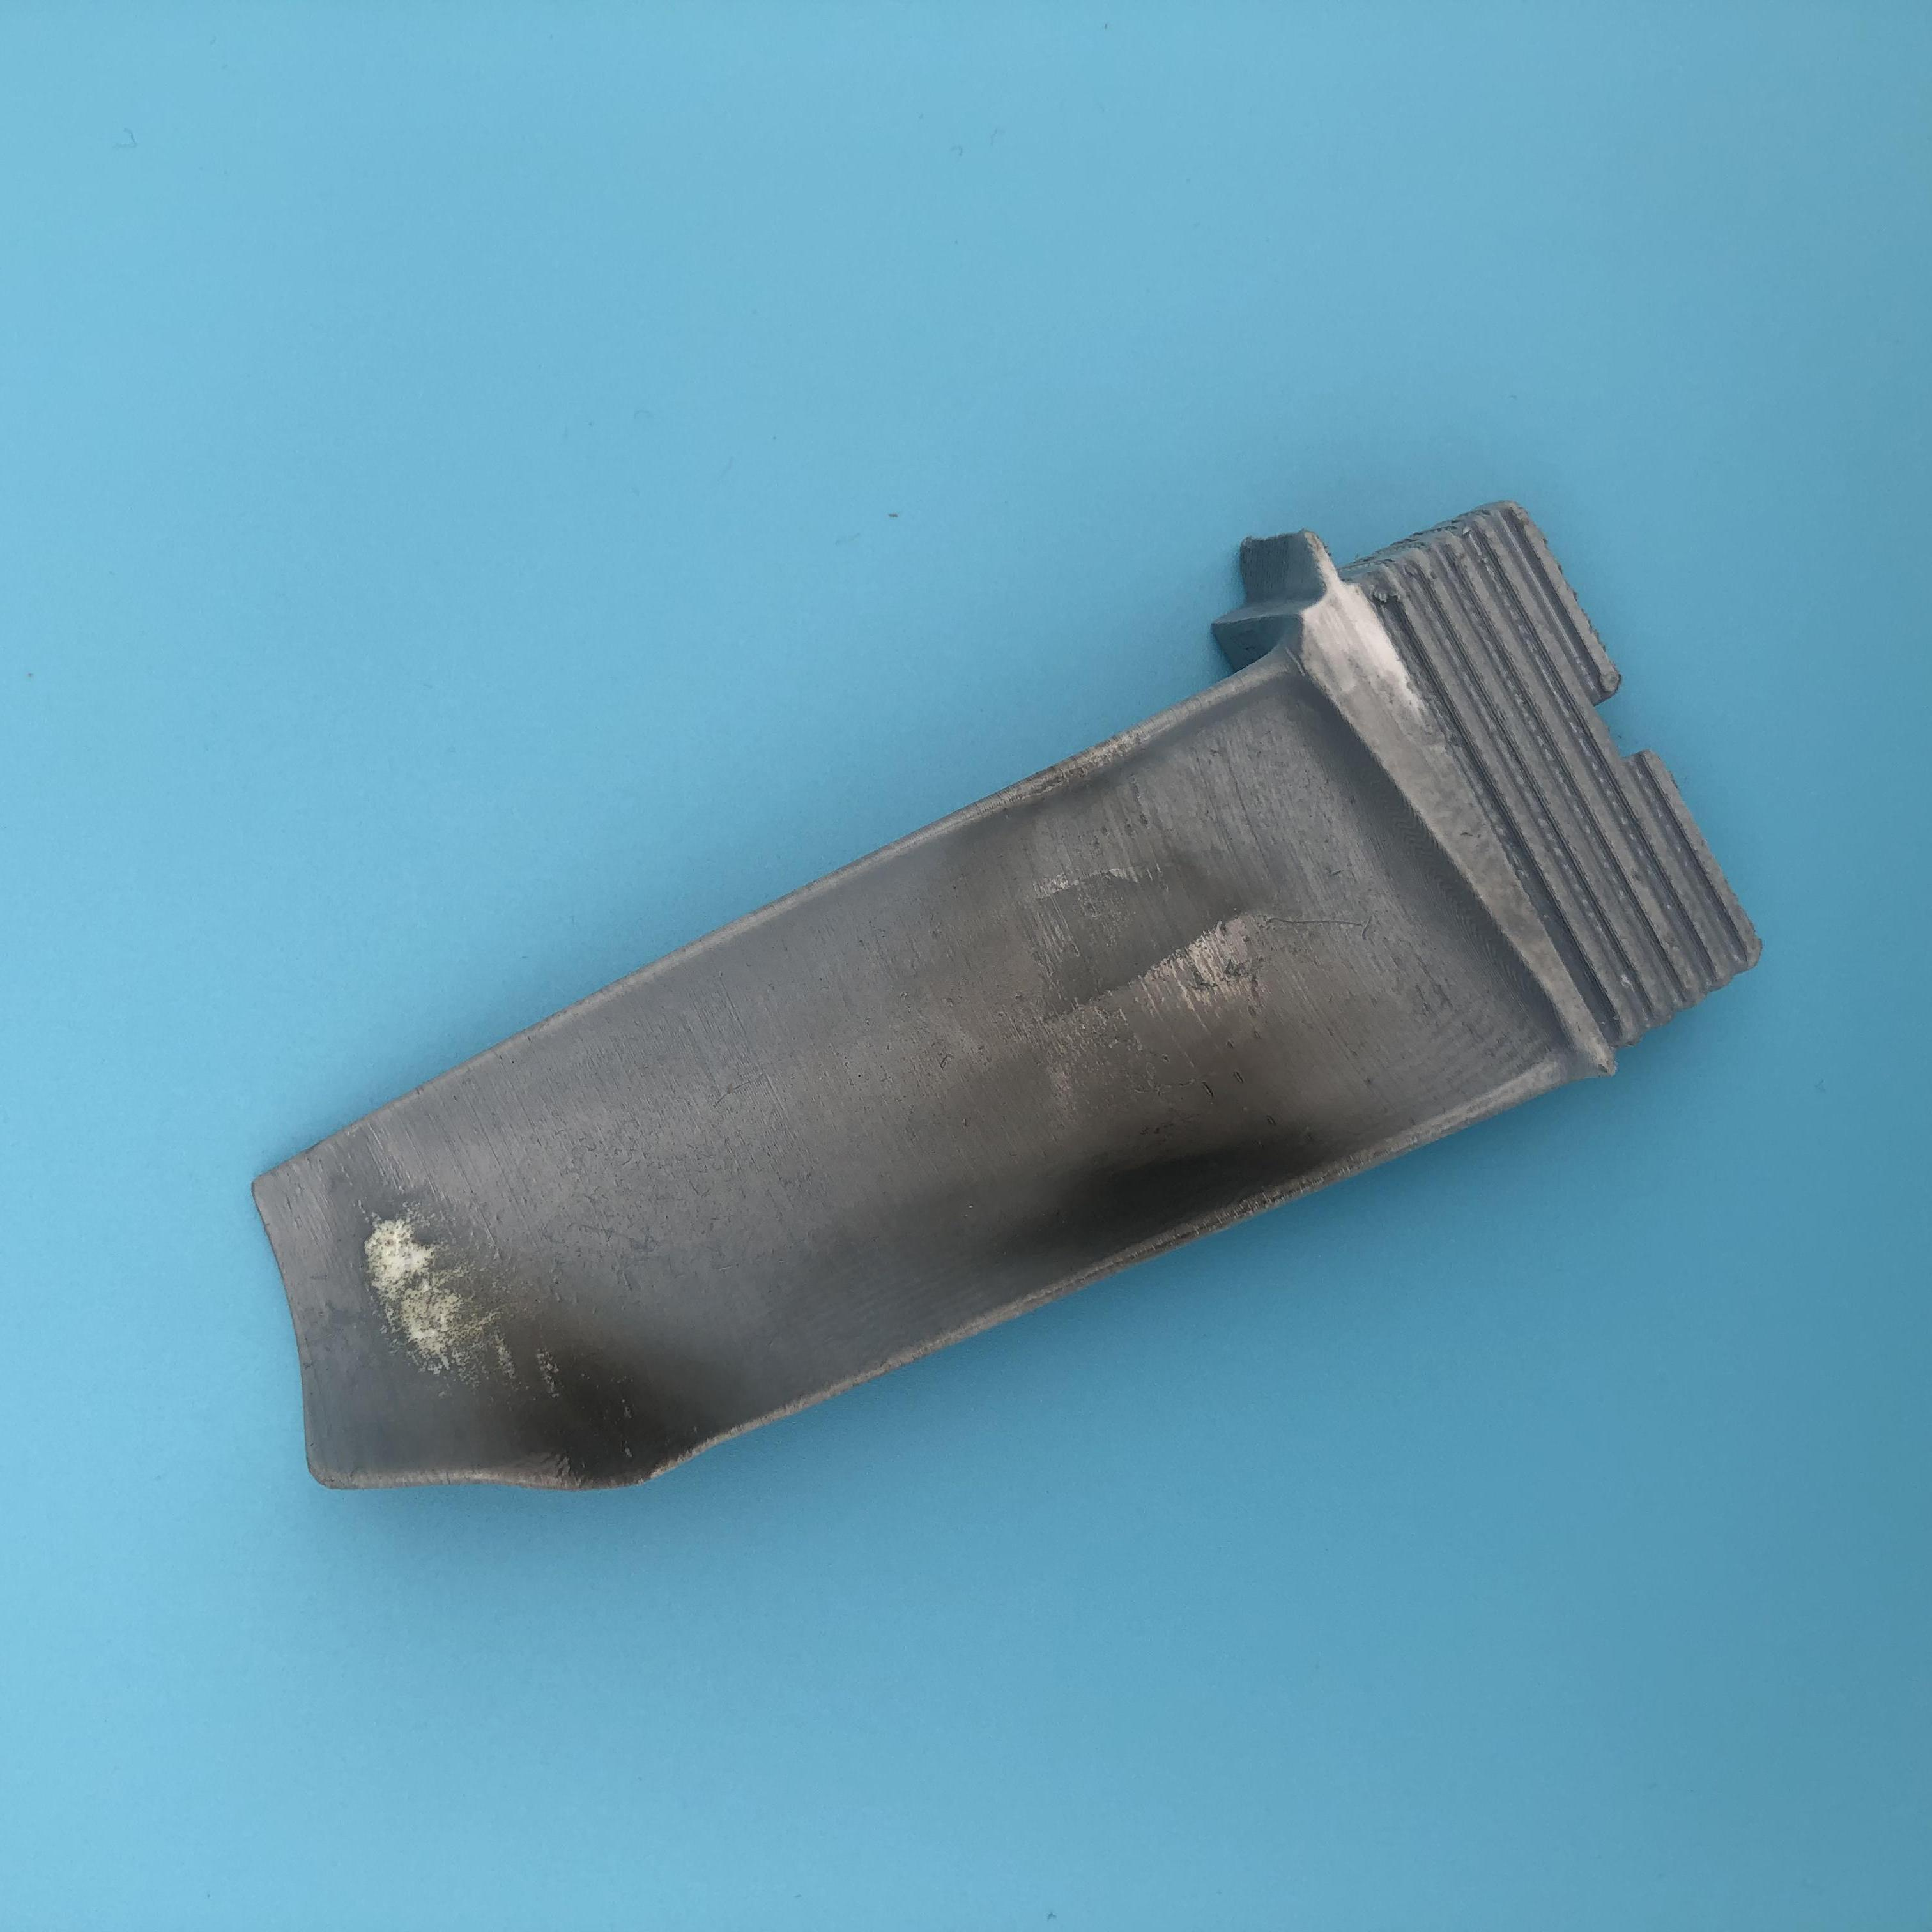ablation: (991, 837, 1338, 1217), (357, 1210, 738, 1465)
